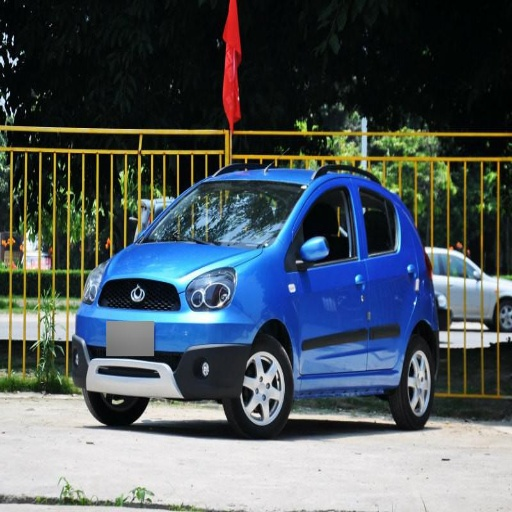front_bumper: (78, 270, 255, 400)
front_glass: (145, 180, 302, 246)
front_left_door: (290, 176, 367, 379)
